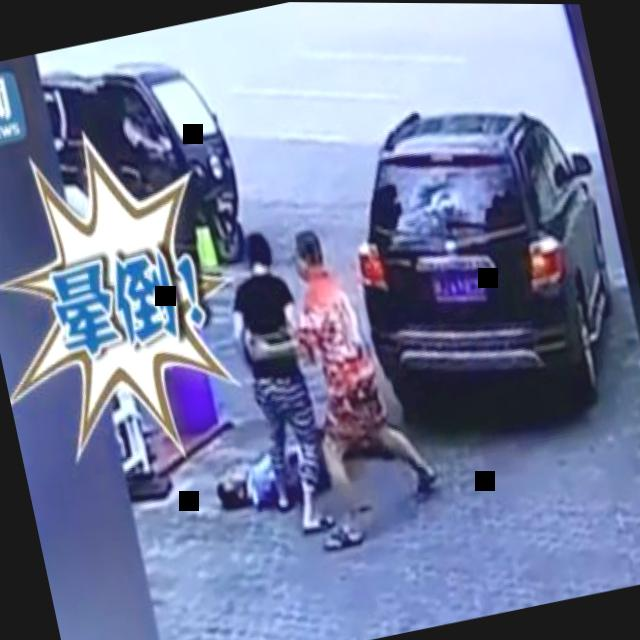Fall-Detected: (188, 399, 353, 534)
